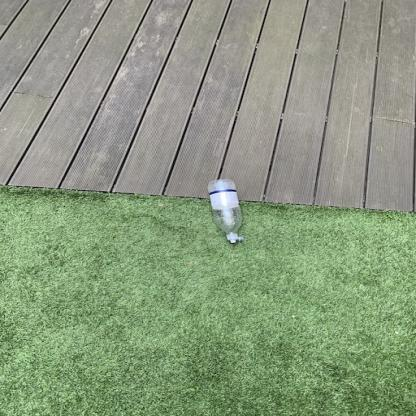trash: (206, 179, 248, 246)
